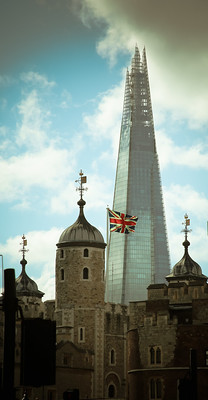low: (103, 41, 174, 319)
